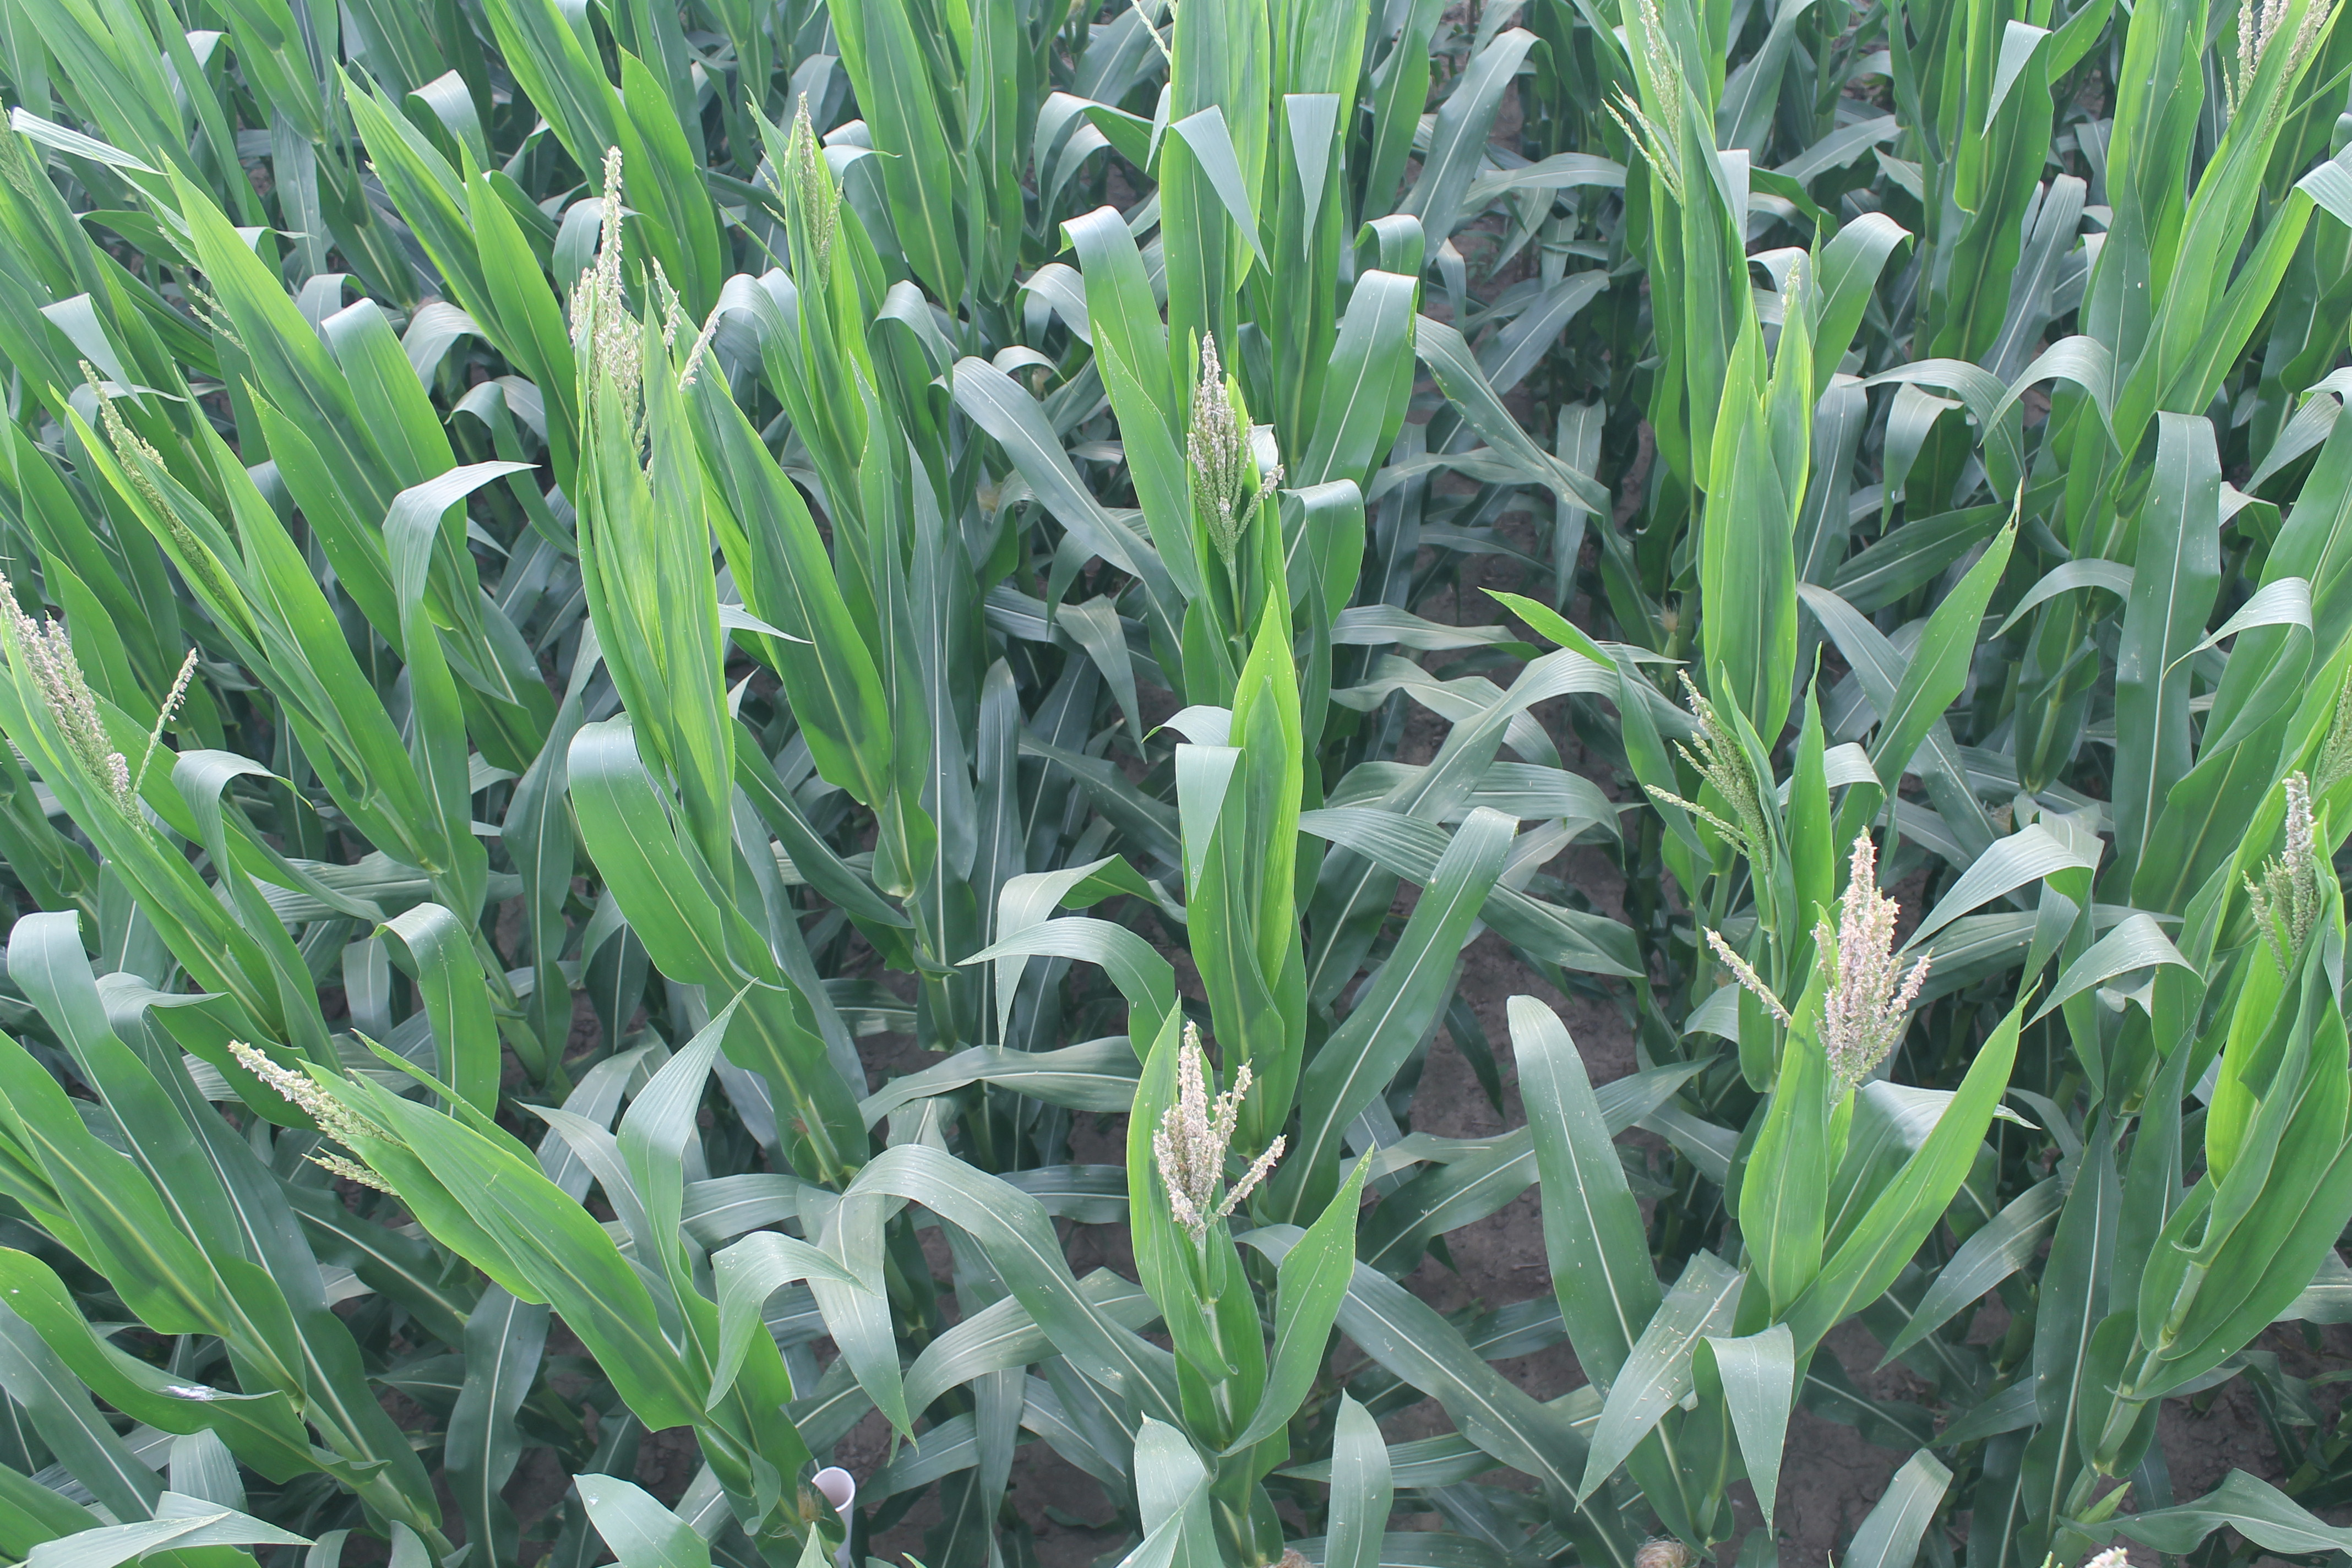Maize: (1143, 1018, 1286, 1239), (0, 574, 135, 808), (224, 1032, 399, 1195), (1809, 828, 1909, 1088), (1176, 332, 1284, 556), (567, 150, 658, 413), (1652, 670, 1771, 870), (2235, 773, 2319, 952), (2222, 0, 2327, 122), (782, 91, 850, 269)
